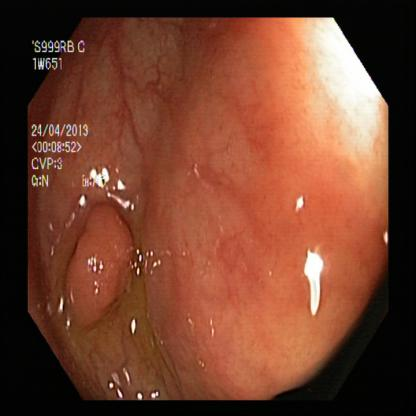Polyps: (49, 191, 144, 337)
